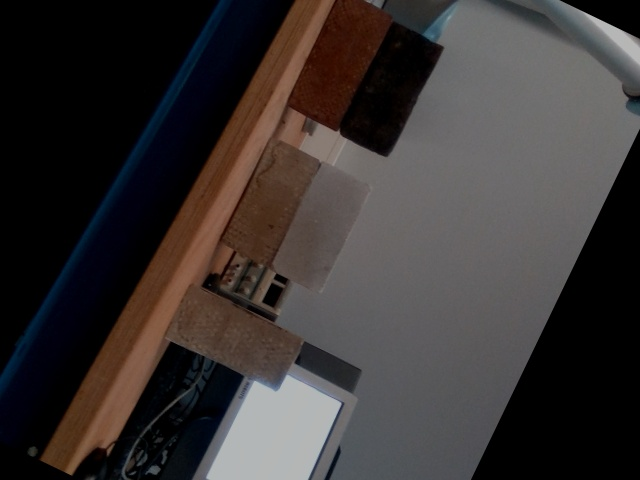brick: (167, 287, 301, 388), (341, 27, 439, 153), (290, 0, 390, 123), (274, 167, 365, 288), (226, 141, 314, 260)
